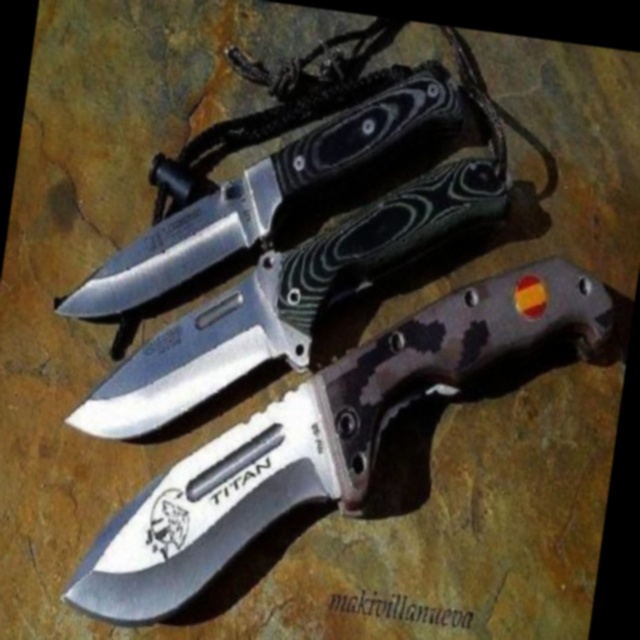Sharp-Object: (61, 200, 618, 640), (62, 96, 513, 490), (55, 19, 471, 367)
